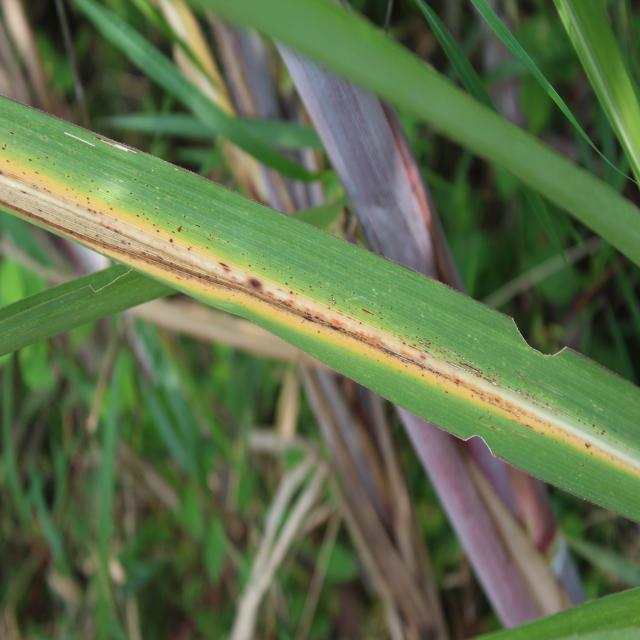Sugarcane: (0, 95, 640, 524), (400, 2, 594, 283), (170, 1, 418, 106), (62, 0, 226, 137), (550, 3, 639, 206), (101, 109, 330, 177), (401, 1, 512, 124), (131, 336, 213, 494), (508, 180, 579, 312), (1, 392, 47, 563), (0, 205, 67, 276), (95, 109, 213, 142)
